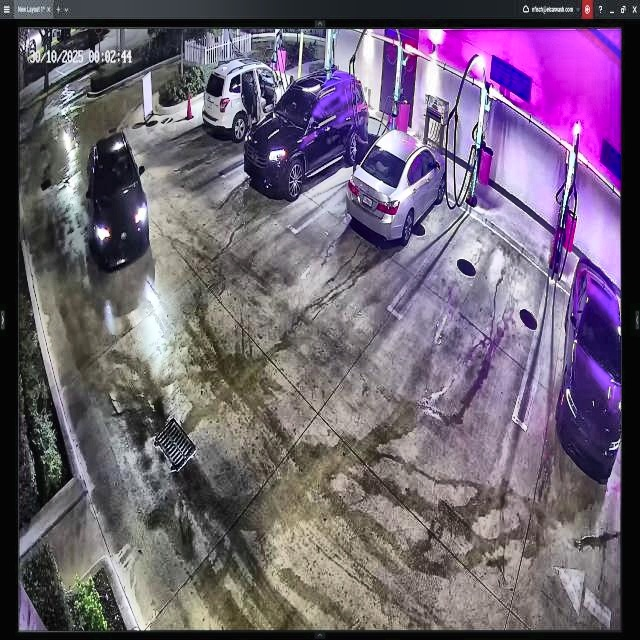Car: (243, 70, 366, 198), (348, 129, 445, 241), (86, 134, 150, 272), (201, 58, 289, 142)
